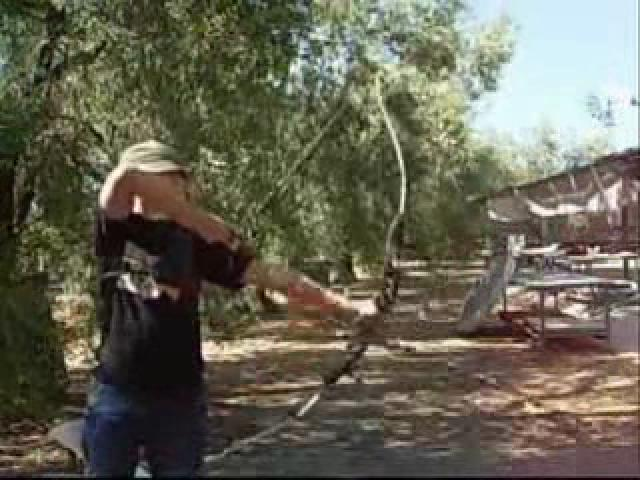I: (74, 122, 411, 468)
